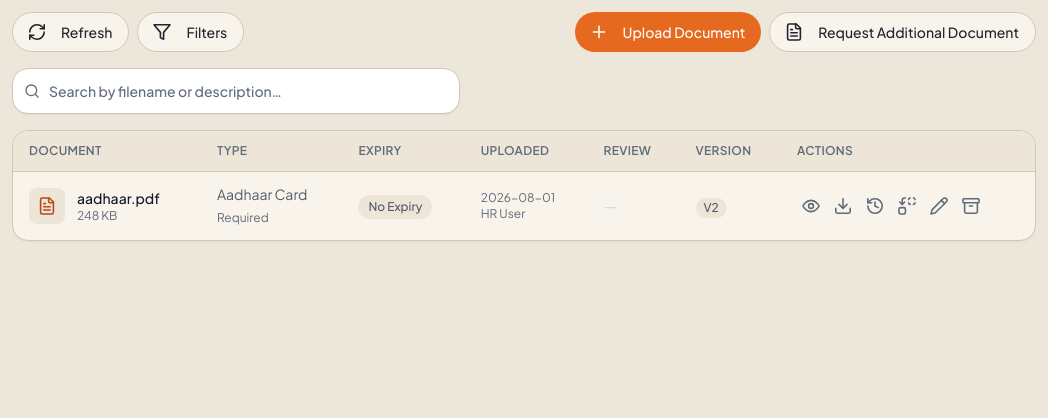
Scenario: DocumentsTab › handles an empty document type list without crashing the dropdown
Expected: the text "aadhaar.pdf" is shown, [77,188,160,208]
Click the button "Filters".
click(191, 32)  # box [138,12,244,52]
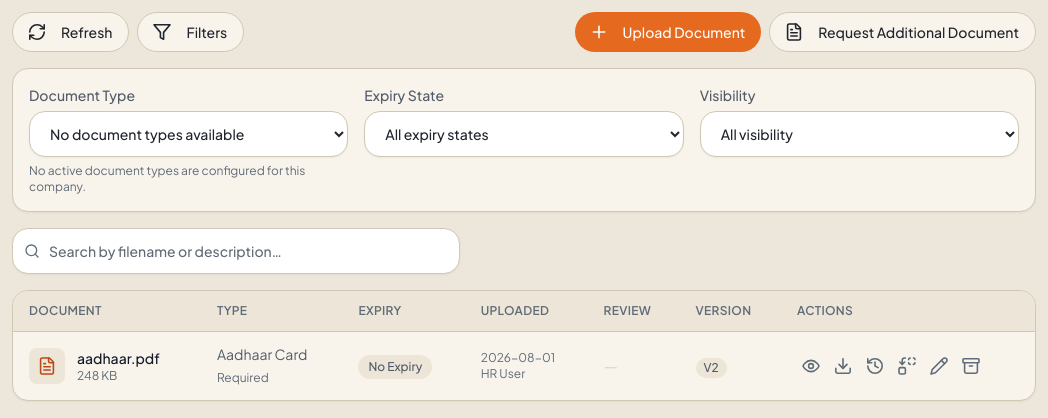
Expected: the text "No active document types are configured for this company." is shown, [29,163,348,195]
